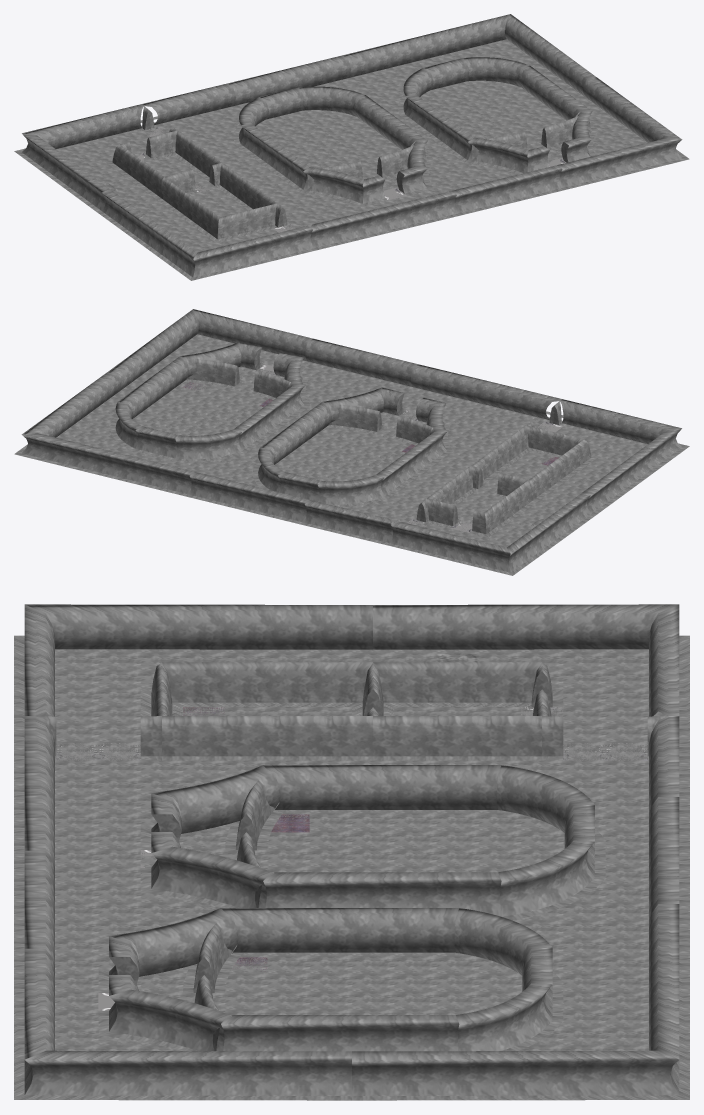
Rendered from level_14.gltf.
The picture shows the model from 3 angles, top to bottom: view 1: azimuth 30°, elevation 25°; view 2: azimuth 150°, elevation 25°; view 3: azimuth 270°, elevation 25°; orthographic projection. The views are drawn at different scales.
Visible parts, largest first — view 1: Mesh_18, Mesh_20, Mesh_34, Mesh_24, Mesh_6, Mesh_28, Mesh_22, Mesh_36, Mesh_26, Mesh_44, Mesh_40, Mesh_32 (+51 smaller); view 2: Mesh_20, Mesh_18, Mesh_6, Mesh_34, Mesh_24, Mesh_40, Mesh_36, Mesh_26, Mesh_28, Mesh_44, Mesh_22, Mesh_15 (+47 smaller); view 3: Mesh_20, Mesh_18, Mesh_6, Mesh_44, Mesh_30, Mesh_32, Mesh_42, Mesh_115, Mesh_97, Mesh_107, Mesh_54, Mesh_89 (+60 smaller).
Part boxes in pixels (x1,y1,x2,y2): Mesh_18: (255,110,401,179); Mesh_20: (420,80,566,149); Mesh_34: (343,14,510,77); Mesh_24: (310,191,456,248); Mesh_6: (251,184,431,229); Mesh_28: (557,138,681,187); Mesh_22: (193,227,312,277); Mesh_36: (228,55,350,105); Mesh_26: (452,165,562,213); Mesh_44: (102,190,196,277); Mesh_40: (22,104,143,148); Mesh_32: (505,14,596,97); Mesh_20: (132,379,270,435); Mesh_18: (275,425,411,481); Mesh_6: (402,387,550,472); Mesh_34: (22,433,194,494); Mesh_24: (410,364,561,419); Mesh_40: (391,522,510,572); Mesh_36: (189,472,309,522); Mesh_26: (305,338,417,386); Mesh_28: (193,309,312,360); Mesh_44: (582,428,681,513); Mesh_22: (560,399,681,443); Mesh_15: (301,362,412,410); Mesh_20: (212,948,522,1015); Mesh_18: (254,805,564,872); Mesh_6: (55,752,355,886); Mesh_44: (25,604,372,649); Mesh_30: (25,1050,351,1095); Mesh_32: (352,1050,678,1095); Mesh_42: (373,604,678,649); Mesh_115: (221,908,458,952); Mesh_97: (263,765,501,809); Mesh_107: (221,1015,459,1051); Mesh_54: (162,716,372,756); Mesh_89: (263,872,501,916).
Bounding box in the file's own units: 42.27 × 1.55 × 26.01.
5 materials, 5 textured.
